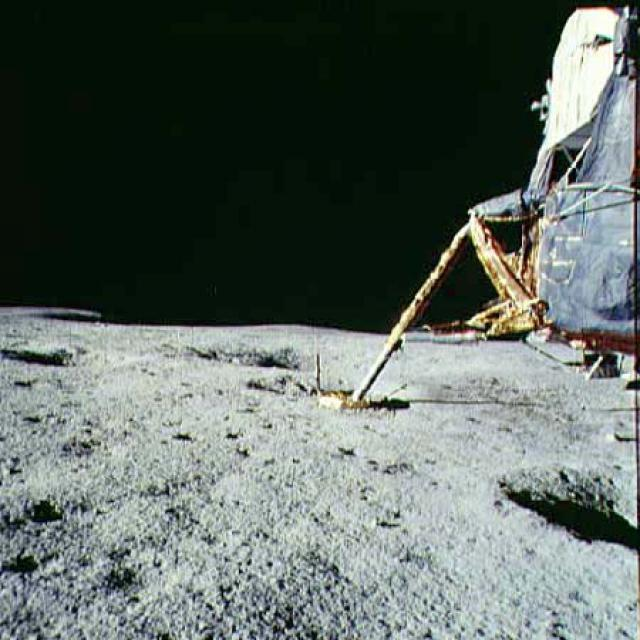crater: (483, 433, 639, 575), (171, 328, 407, 390), (0, 325, 147, 392), (13, 485, 112, 528)
